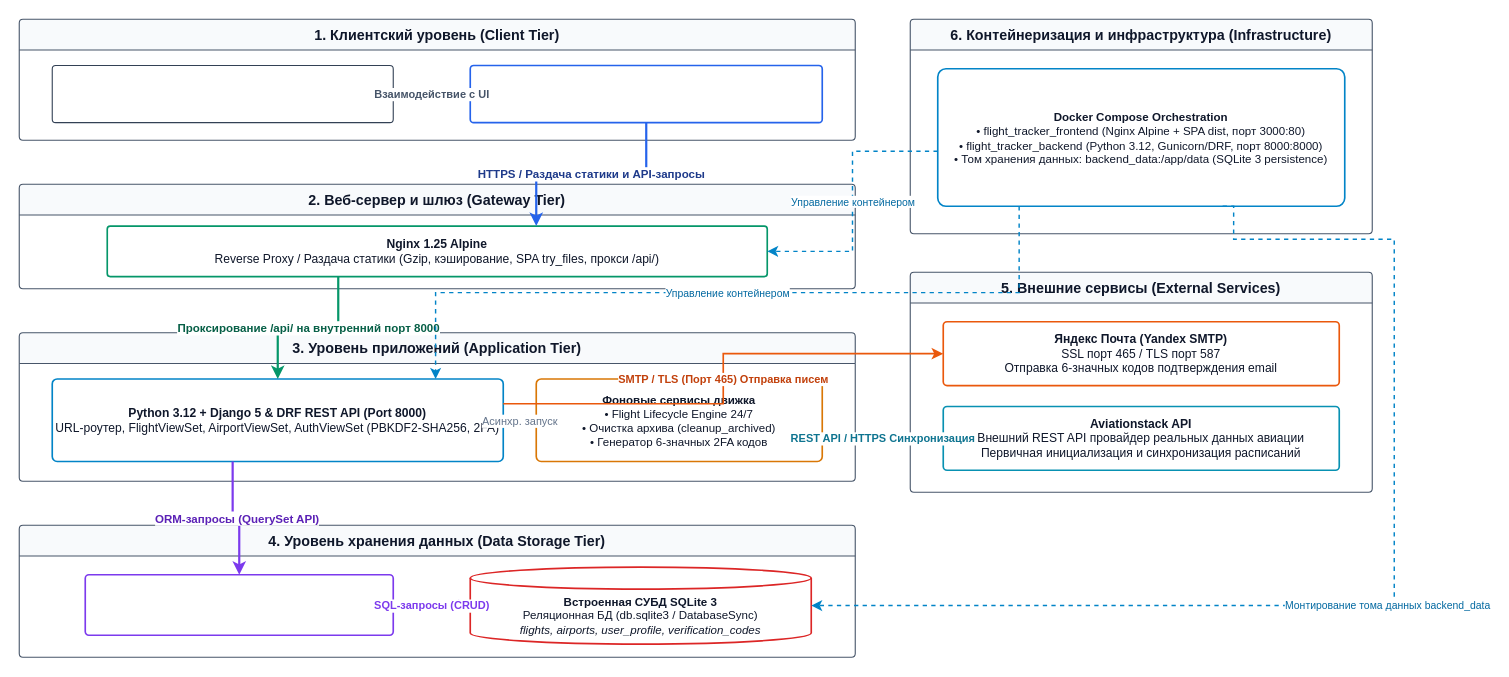
Some shapes in this 1509 by 677 pixel diagram are drawn without their labels. The centre of each missing label's shape, as x and y in pixels:
Django ORM Слой моделей, QuerySet API, миграции, транзакционная целостность: the point at 239,604
React 19 SPA Vite 8.2, React Router v7, Tailwind CSS, Lucide Icons: the point at 646,93
Браузер пользователя Desktop / Mobile (Chrome, Safari, Firefox): the point at 222,93
